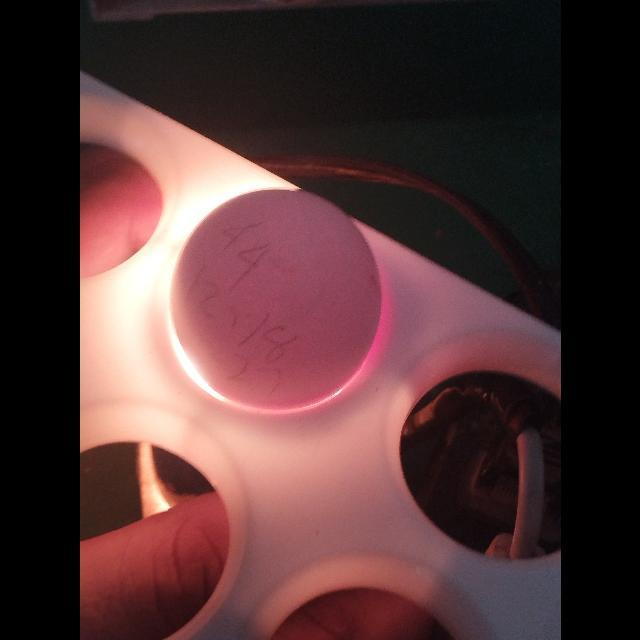Fertile: (170, 180, 384, 422)
